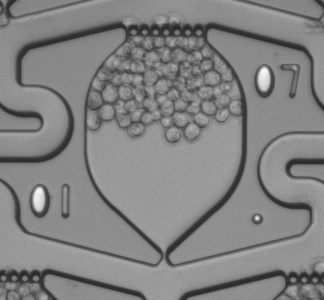AptNum: (249, 57, 305, 107)
Marker: (245, 208, 268, 230)
StNum: (26, 178, 82, 226)
Trap: (140, 255, 189, 298)
